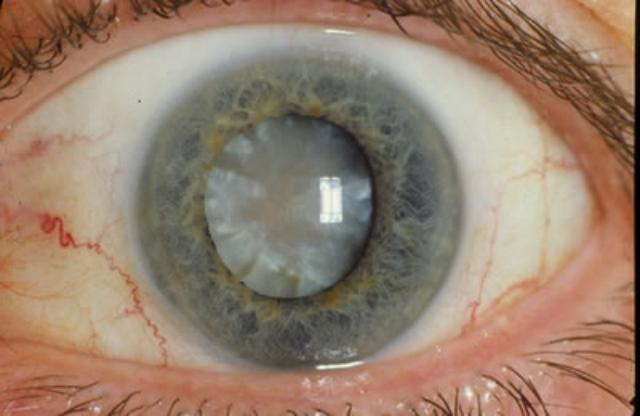eye: (135, 37, 475, 369)
